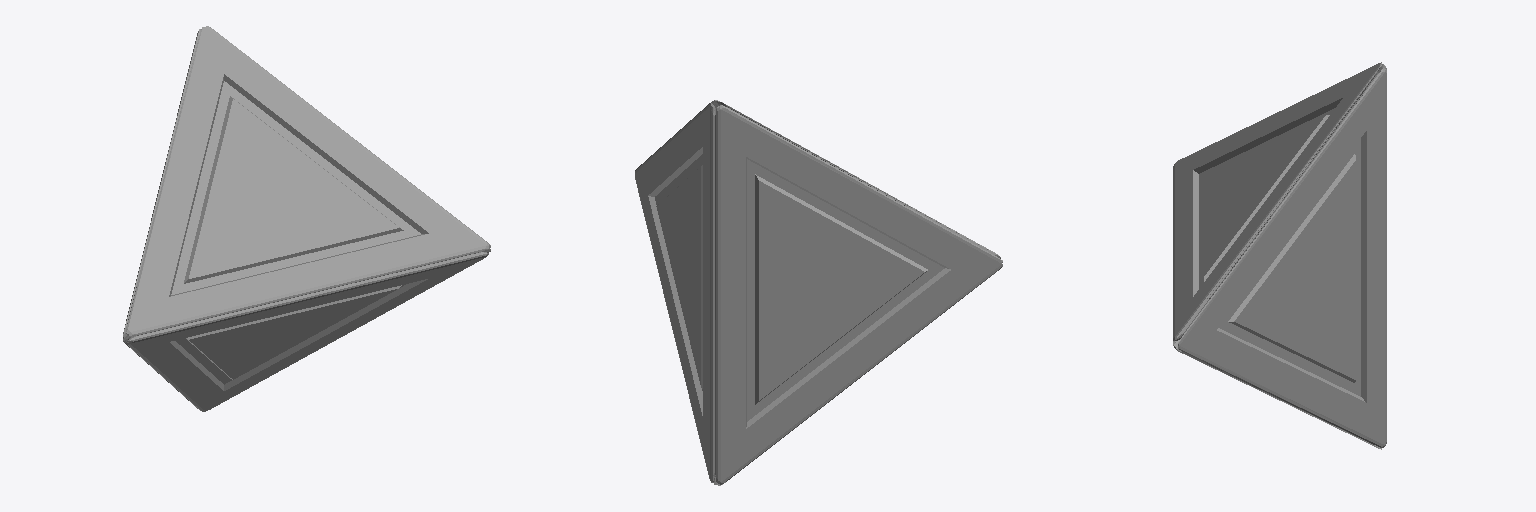
The model's file is Flatpacka.obj.
3 views of the same model, side by side, from view 1: azimuth 30°, elevation 25°; view 2: azimuth 150°, elevation 25°; view 3: azimuth 270°, elevation 25° (orthographic).
Parts seen in each view (by area): view 1: Cube.003_Cube.009; view 2: Cube.003_Cube.009; view 3: Cube.003_Cube.009.
Boxes of the visible parts, box(x1,y1,x2,y2) form: Cube.003_Cube.009: box(123, 26, 490, 411); Cube.003_Cube.009: box(635, 100, 1002, 485); Cube.003_Cube.009: box(1173, 62, 1386, 449).
Bounding box in the file's own units: 3.8 × 3.8 × 1.92.